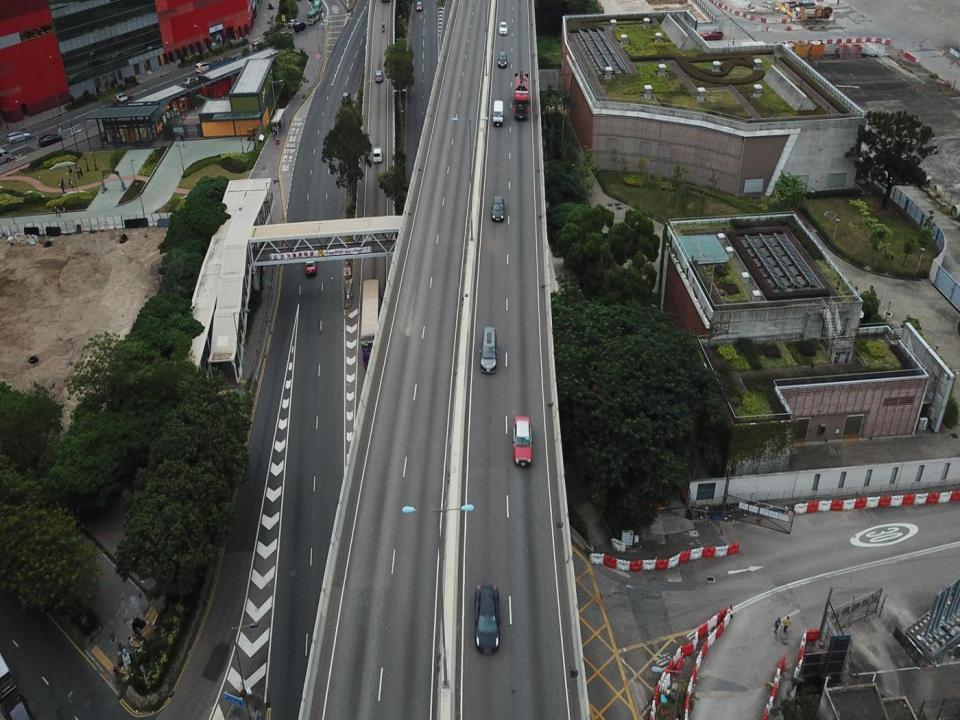bus: (306, 8, 320, 26)
car: (472, 581, 502, 653), (511, 413, 534, 467), (304, 248, 319, 276), (491, 195, 505, 222), (38, 134, 62, 146), (7, 132, 31, 144), (703, 28, 725, 41), (372, 146, 384, 166), (182, 74, 199, 87), (111, 92, 131, 103), (196, 60, 212, 73), (497, 51, 508, 69), (252, 38, 266, 52), (294, 20, 307, 33), (341, 89, 350, 107), (498, 20, 507, 36), (374, 70, 384, 83), (288, 18, 300, 28), (416, 0, 422, 11)
truck: (359, 276, 386, 369), (512, 70, 532, 122)
van: (479, 324, 500, 374), (492, 99, 504, 127)
